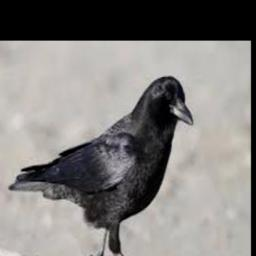Crow: (7, 76, 193, 256)
